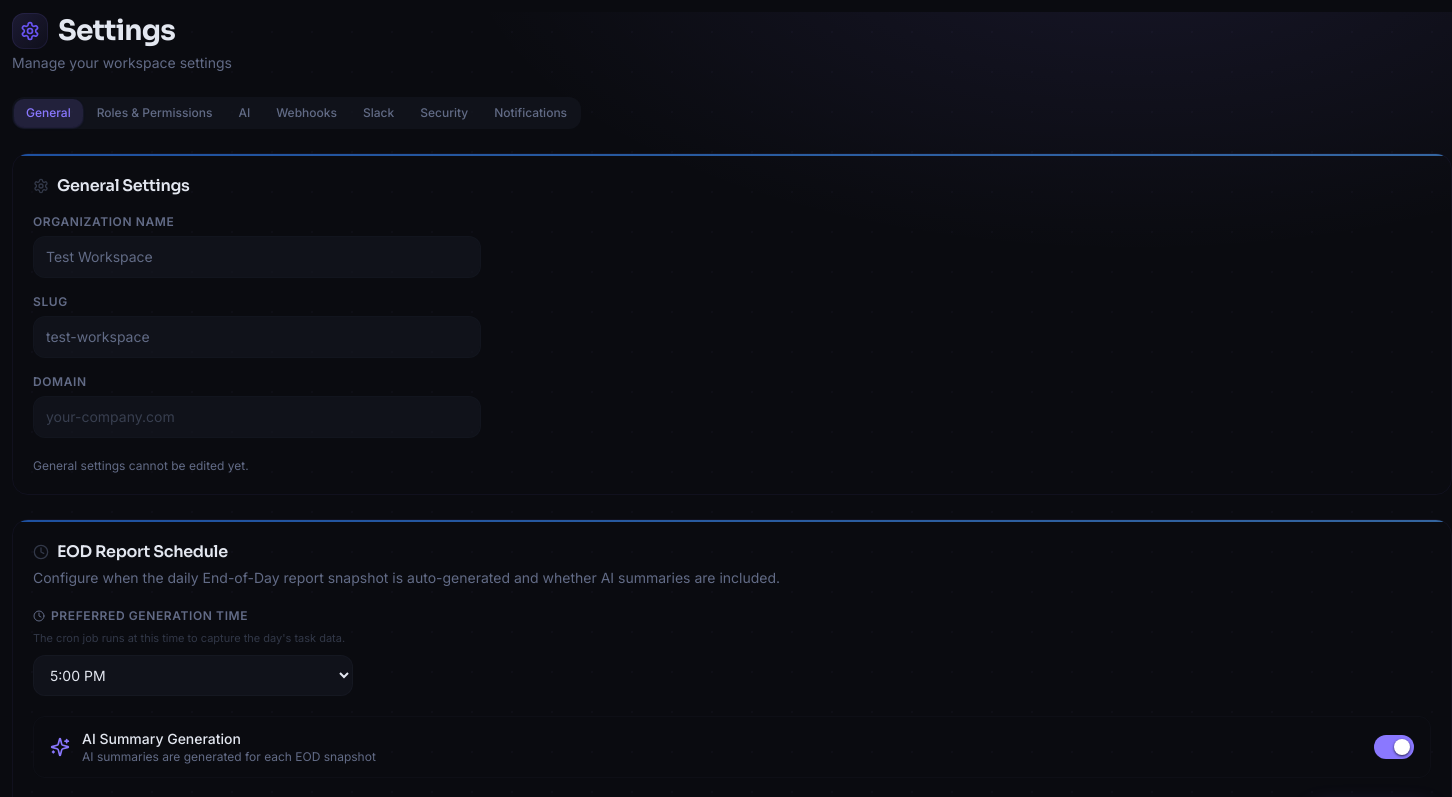
Scenario: Preview chime button › is disabled when sound is toggled off
The width and height of the screenshot is (1452, 797).
expect the text "Settings" is shown: met, box [58,12,175,49]
Click the tab "Notifications" at (531, 113), box [482,99,579,127]
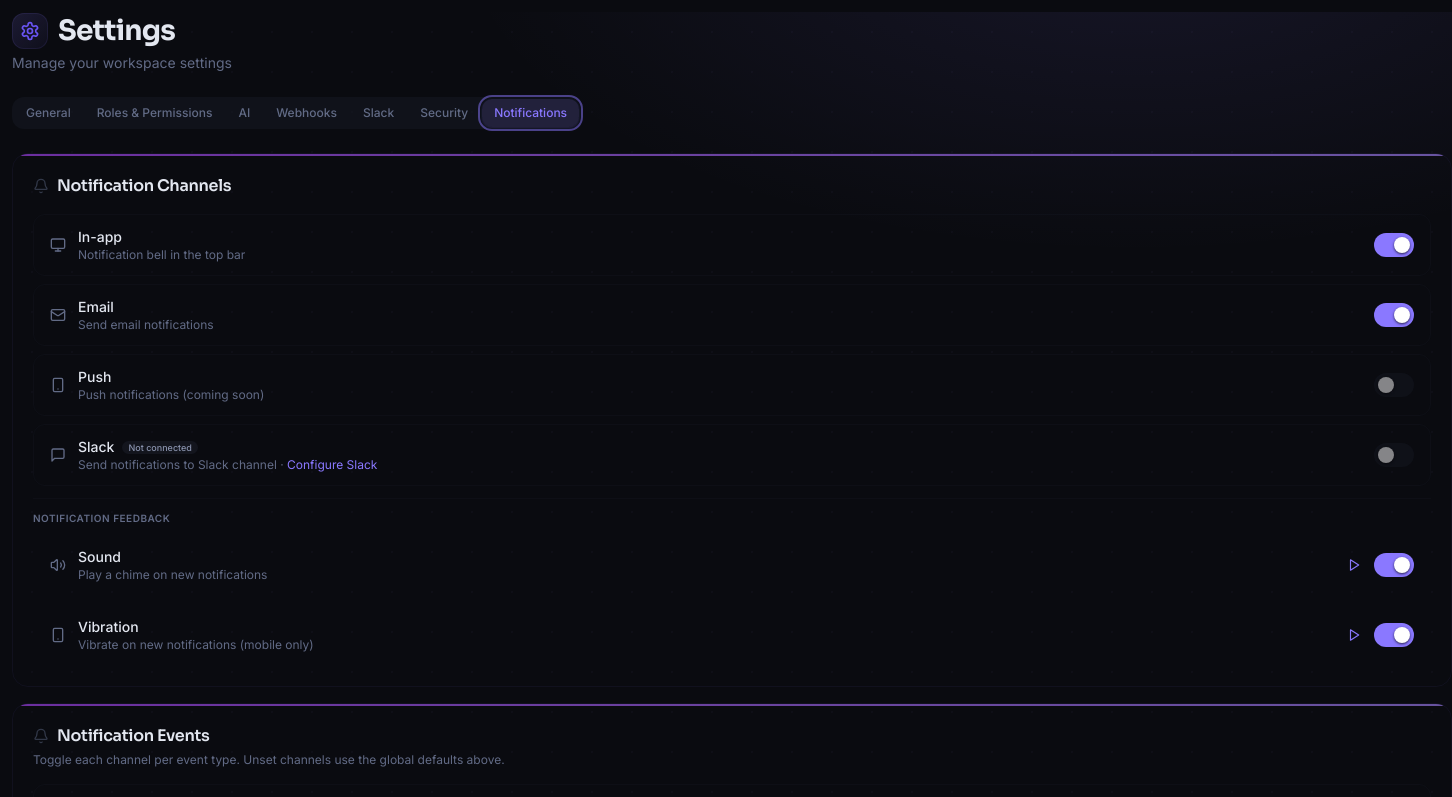
expect the heading "Notification Channels" is shown: met, box [33,175,231,196]
expect the text "Notification Feedback" is shown: met, box [33,512,170,524]
Click the switch named "Notification sound" at (1394, 565), box [1374,553,1414,577]
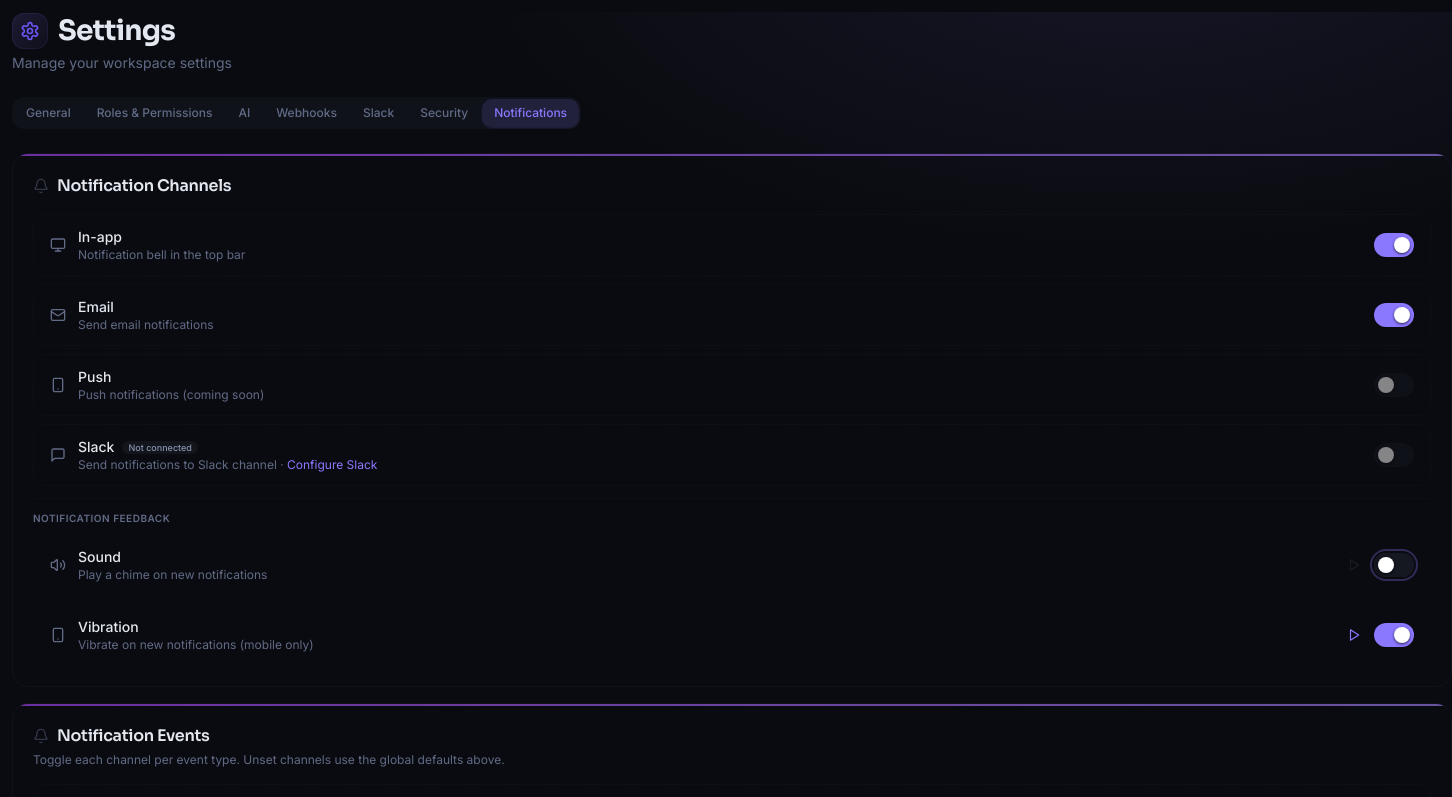
expect the button named "preview notification chime" is disabled: met, box [1340,551,1368,579]
